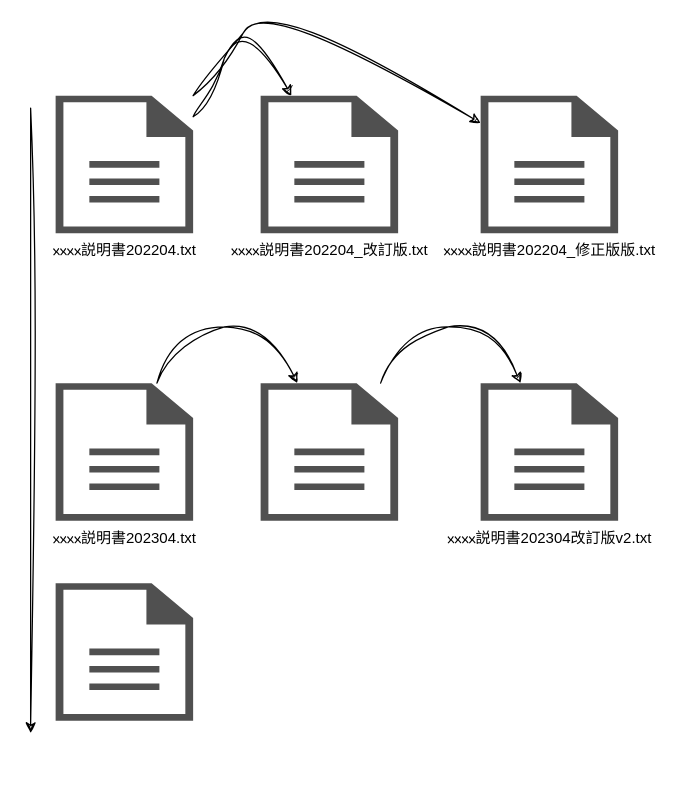
This 676x790 diagram has some shape labels left out. The shapes that lost their labels are listed below. From the top down, each one's centre as x and y in pixels, then its label:
At [329,451]: "xxxx説明書 202304改訂版.txt".
At [123,651]: "xxxx説明書 202404.txt".
